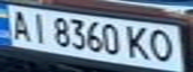0: (100, 20, 124, 57)
3: (66, 17, 87, 52)
6: (84, 19, 106, 54)
8: (48, 15, 72, 48)
A: (6, 7, 33, 42)
I: (24, 10, 51, 44)
K: (121, 24, 151, 61)
O: (145, 27, 181, 65)
